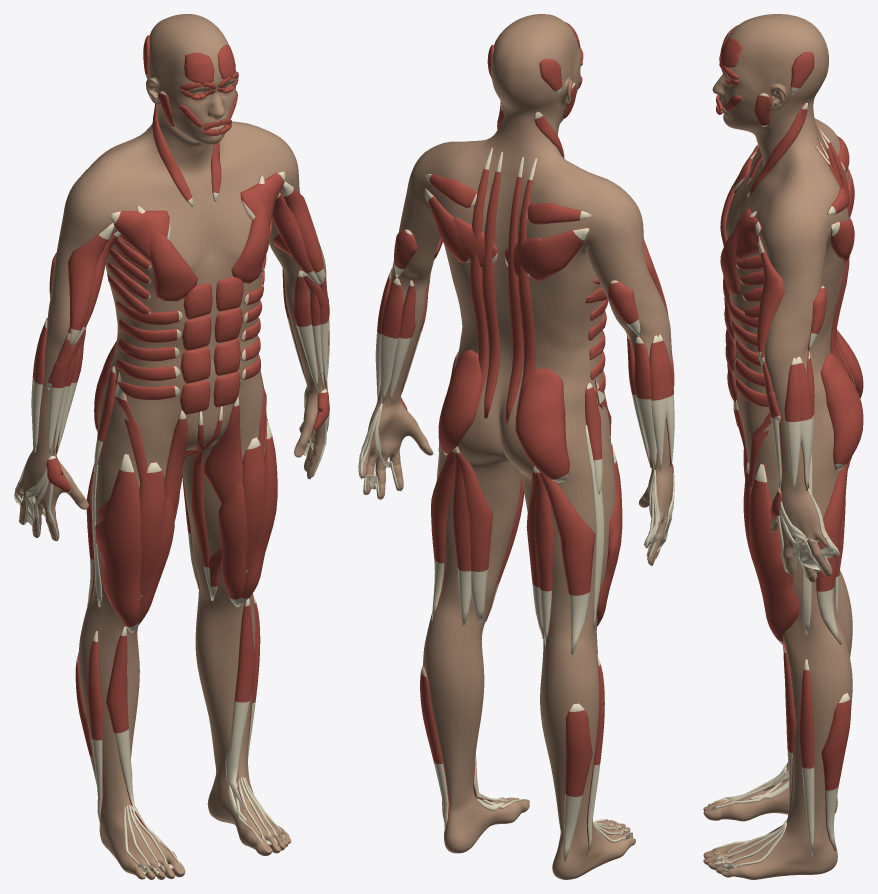
The model's file is full-body-muscular-system-selected-deep-layer.glb.
3 renders of one model, left to right at view 1: azimuth 30°, elevation 25°; view 2: azimuth 150°, elevation 25°; view 3: azimuth 270°, elevation 25°, orthographic.
Parts seen in each view (by area): view 1: MakeHuman CC0 | continuous fascial reference, Right vastus lateralis, Left vastus medialis, Left tibialis anterior, Right tibialis anterior, Right vastus intermedius exposed, Right biceps brachii long head, Left adductor longus, Right pectoralis minor, Left vastus intermedius exposed, Left vastus lateralis, Right fibularis longus (+37 smaller); view 2: MakeHuman CC0 | continuous fascial reference, Right gluteus medius, Right biceps femoris, Left gluteus medius, Left semimembranosus, Right soleus, Left spinalis erector column, Right spinalis erector column, Right semitendinosus, Left longissimus erector column, Left semitendinosus, Left biceps femoris (+22 smaller); view 3: MakeHuman CC0 | continuous fascial reference, Left vastus lateralis, Left gluteus medius, Left soleus, Left biceps femoris, Left fibularis longus, Left biceps brachii long head, Left brachioradialis, Left extensor carpi radialis, Left tibialis anterior, Left sternocleidomastoid, Left subscapularis exposed (+22 smaller).
Boxes of the visible parts, left/top/right/bottom form: MakeHuman CC0 | continuous fascial reference: left=16, top=14, right=327, bottom=879; Right vastus lateralis: left=95, top=453, right=141, bottom=632; Left vastus medialis: left=218, top=481, right=247, bottom=606; Left tibialis anterior: left=225, top=598, right=255, bottom=808; Right tibialis anterior: left=106, top=626, right=148, bottom=831; Right vastus intermedius exposed: left=139, top=462, right=165, bottom=599; Right biceps brachii long head: left=68, top=222, right=114, bottom=345; Left adductor longus: left=202, top=396, right=242, bottom=504; Right pectoralis minor: left=137, top=205, right=197, bottom=301; Left vastus intermedius exposed: left=242, top=437, right=266, bottom=573; Left vastus lateralis: left=238, top=419, right=277, bottom=606; Right fibularis longus: left=88, top=631, right=103, bottom=827; MakeHuman CC0 | continuous fascial reference: left=361, top=14, right=673, bottom=879; Right gluteus medius: left=515, top=368, right=569, bottom=482; Right biceps femoris: left=539, top=471, right=595, bottom=654; Left gluteus medius: left=438, top=350, right=481, bottom=455; Left semimembranosus: left=455, top=446, right=492, bottom=623; Right soleus: left=563, top=703, right=592, bottom=861; Left spinalis erector column: left=482, top=151, right=503, bottom=418; Right spinalis erector column: left=505, top=157, right=524, bottom=423; Right semitendinosus: left=534, top=468, right=554, bottom=645; Left longissimus erector column: left=470, top=147, right=493, bottom=405; Left semitendinosus: left=452, top=448, right=471, bottom=625; Left biceps femoris: left=431, top=450, right=454, bottom=620; MakeHuman CC0 | continuous fascial reference: left=703, top=14, right=855, bottom=879; Left vastus lateralis: left=749, top=463, right=799, bottom=644; Left gluteus medius: left=820, top=353, right=863, bottom=470; Left soleus: left=821, top=692, right=851, bottom=851; Left biceps femoris: left=816, top=458, right=850, bottom=644; Left fibularis longus: left=799, top=659, right=814, bottom=855; Left biceps brachii long head: left=757, top=235, right=784, bottom=367; Left brachioradialis: left=784, top=357, right=800, bottom=492; Left extensor carpi radialis: left=796, top=356, right=812, bottom=490; Left tibialis anterior: left=768, top=642, right=796, bottom=833; Left sternocleidomastoid: left=747, top=102, right=807, bottom=197; Left subscapularis exposed: left=734, top=208, right=761, bottom=259.
Size of the model in its own units: 0.6638 by 1.75 by 0.3072.
Materials: 3 (3 with a texture image).
